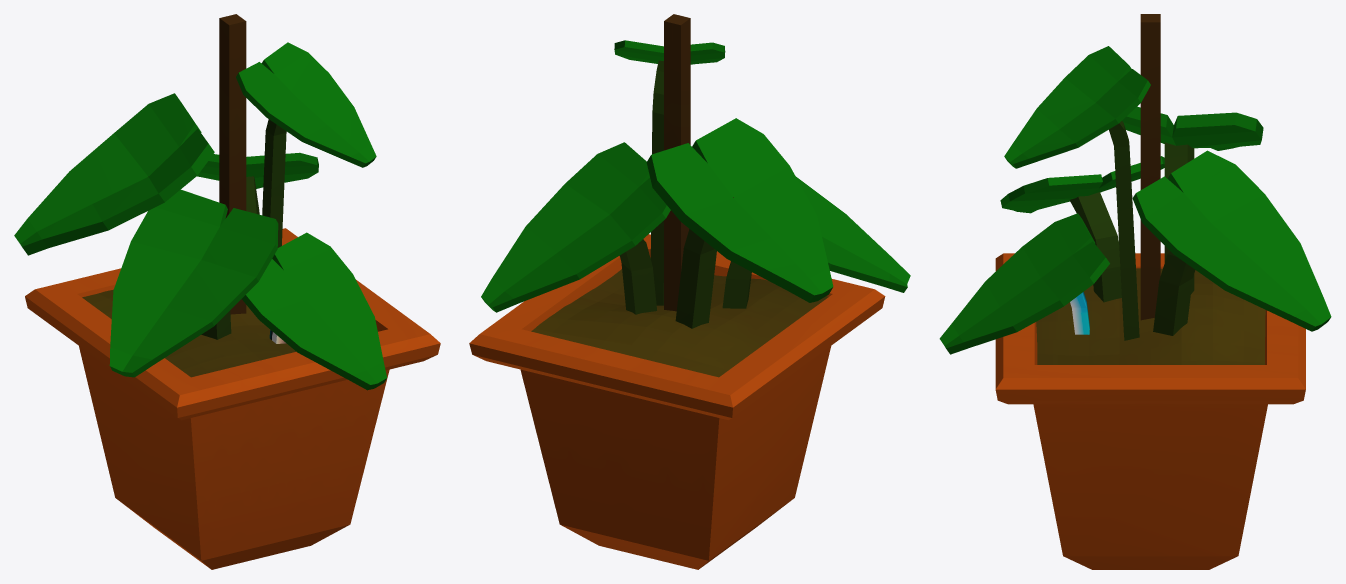
The model's file is Planta1.fbx.
3 views of the same model, side by side, from view 1: azimuth 30°, elevation 25°; view 2: azimuth 150°, elevation 25°; view 3: azimuth 270°, elevation 25° (orthographic).
Visible parts, largest first — view 1: Planta1.001; view 2: Planta1.001; view 3: Planta1.001.
Part boxes in pixels (x1,y1,x2,y2): Planta1.001: (14,14,440,569); Planta1.001: (469,14,910,569); Planta1.001: (939,14,1331,569).
Bounding box in the file's own units: 2.99 × 4.68 × 3.15.
1 material, 1 textured.
